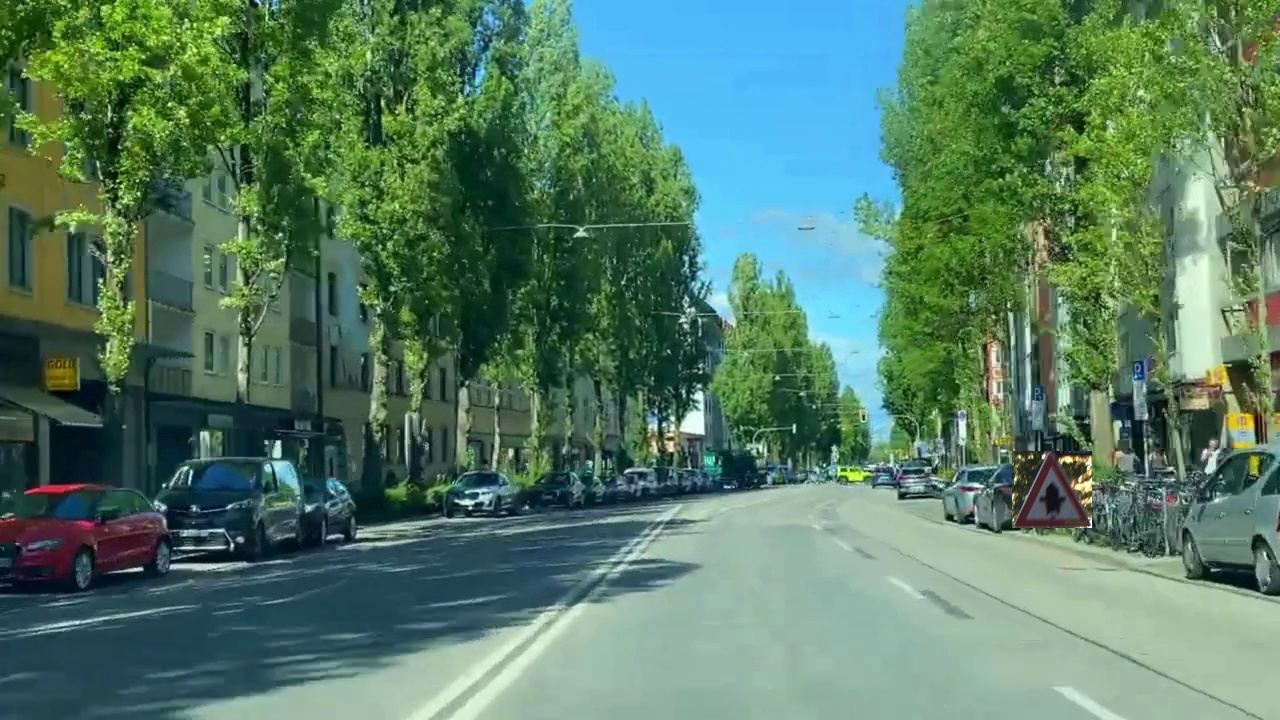Right-of-way: (1012, 451, 1092, 528)
